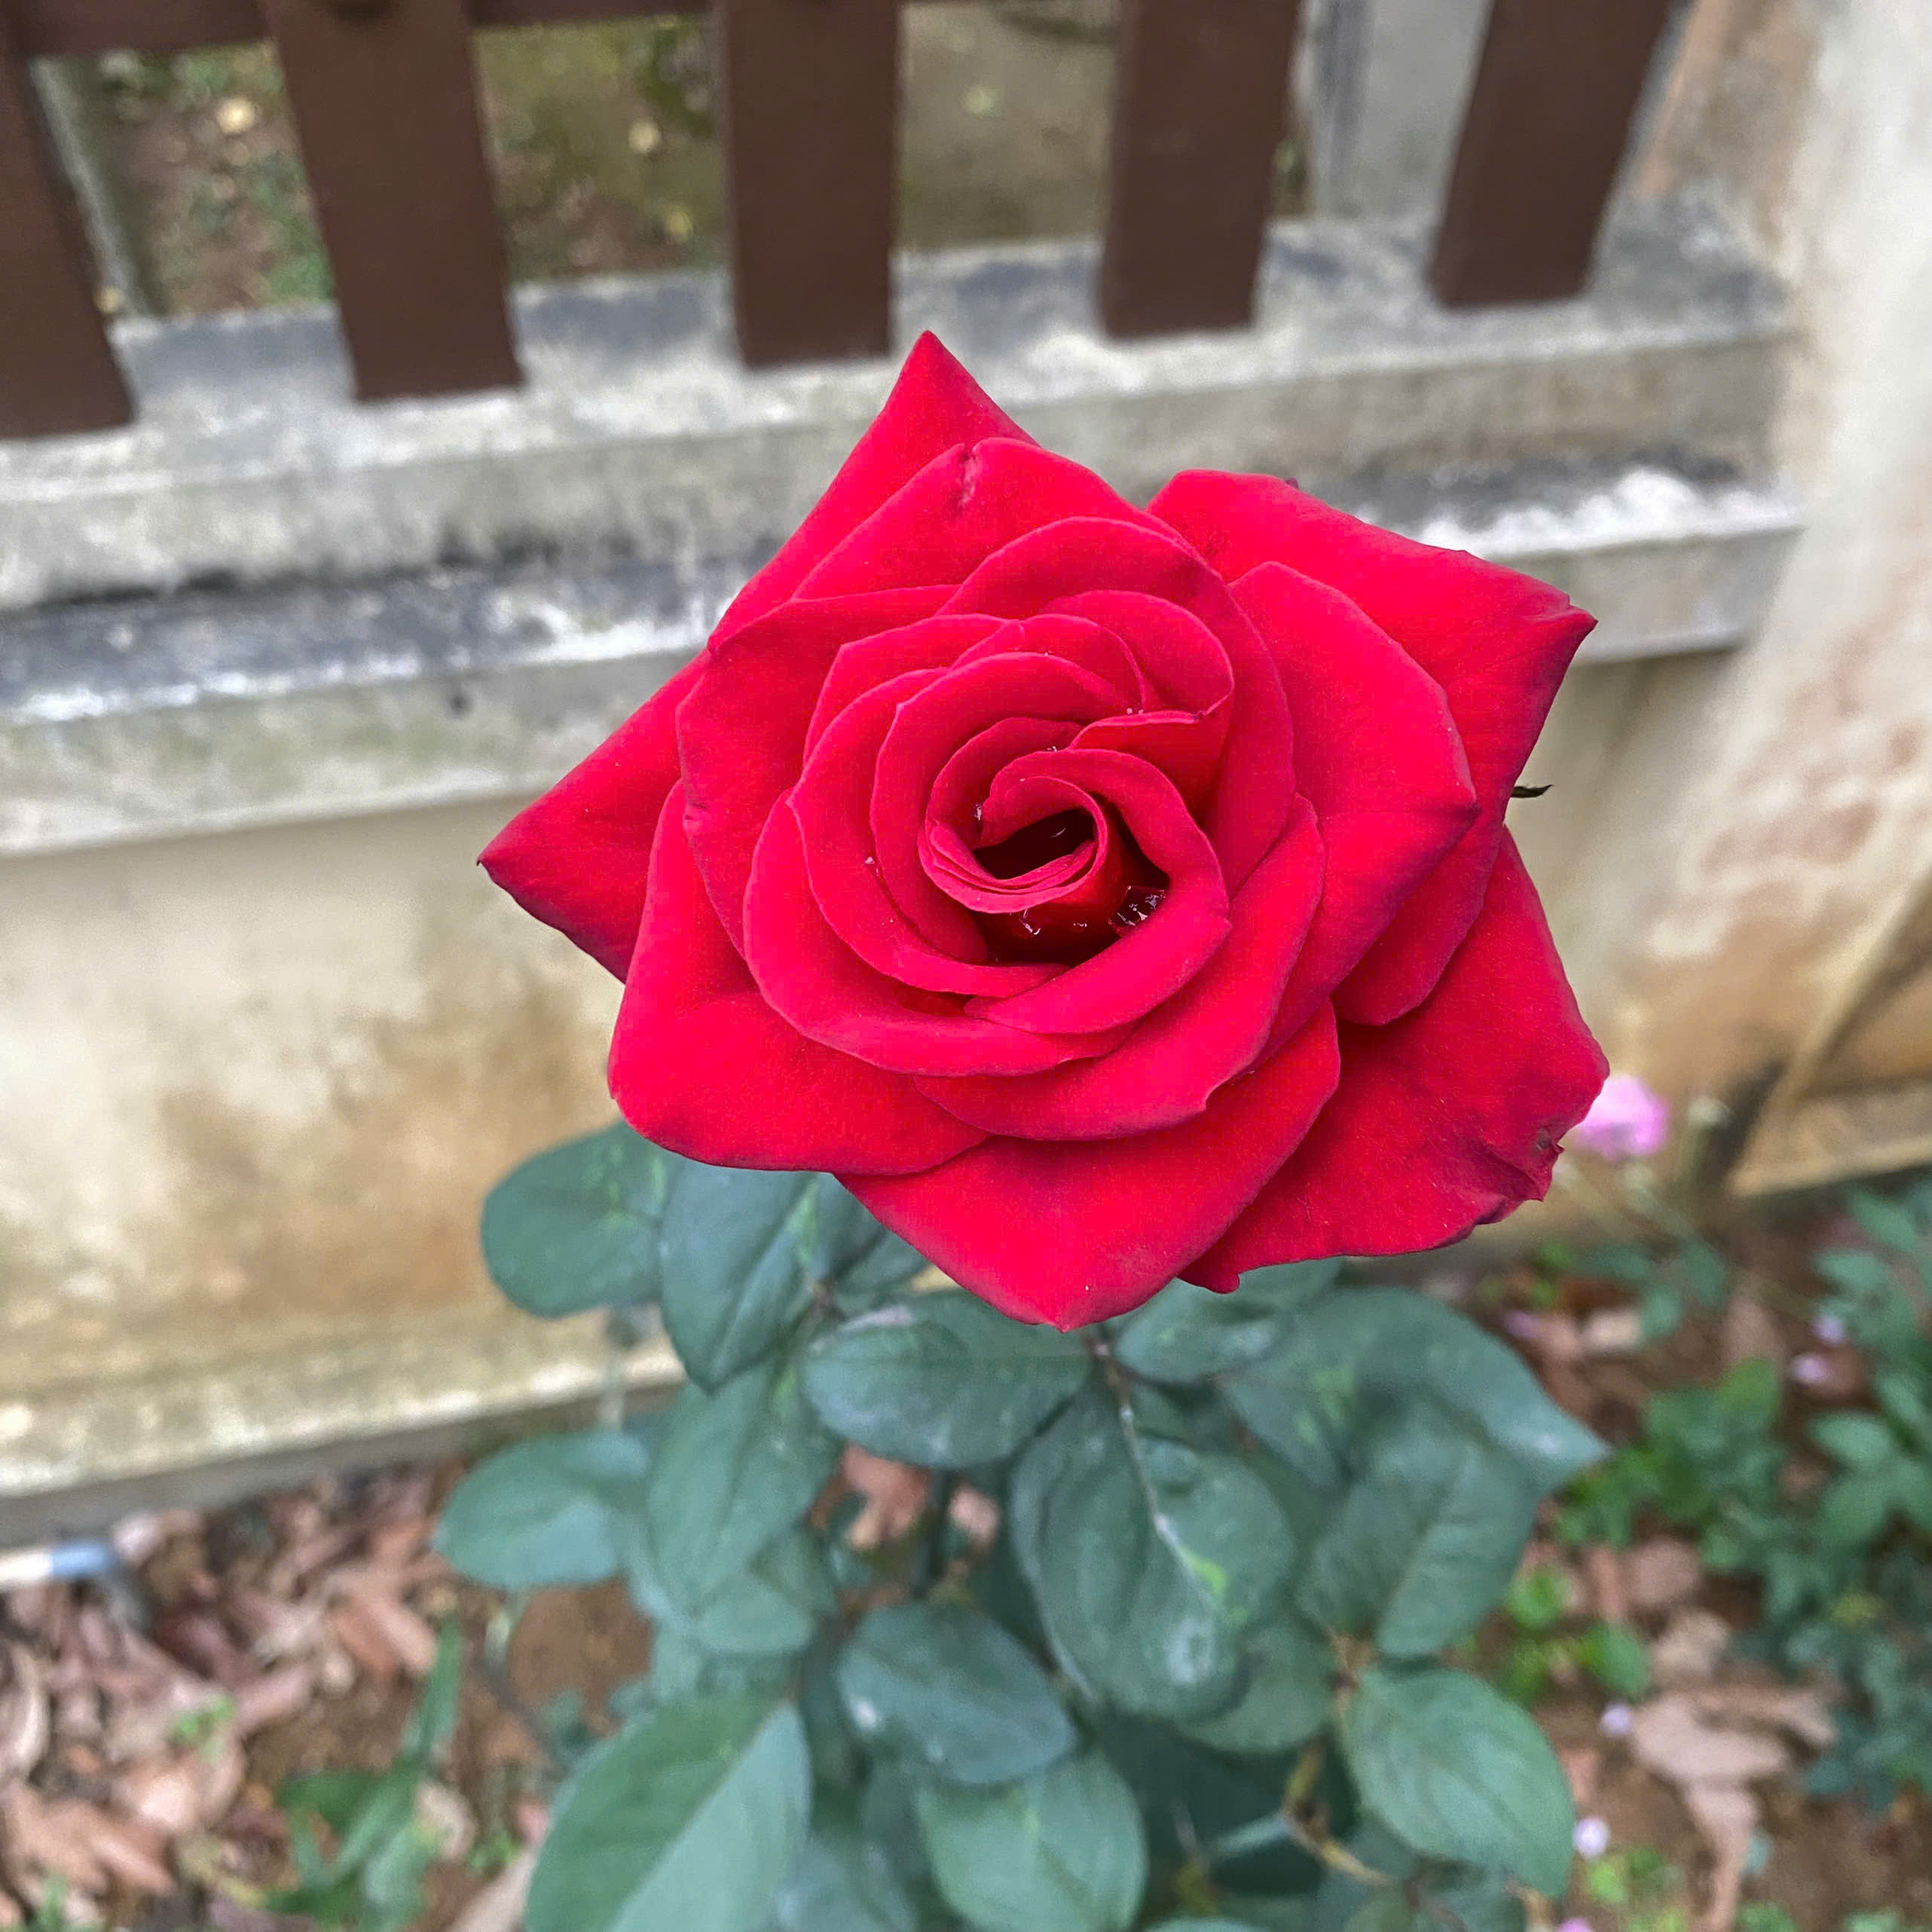hoa_hong_do: (421, 288, 1750, 1932)
